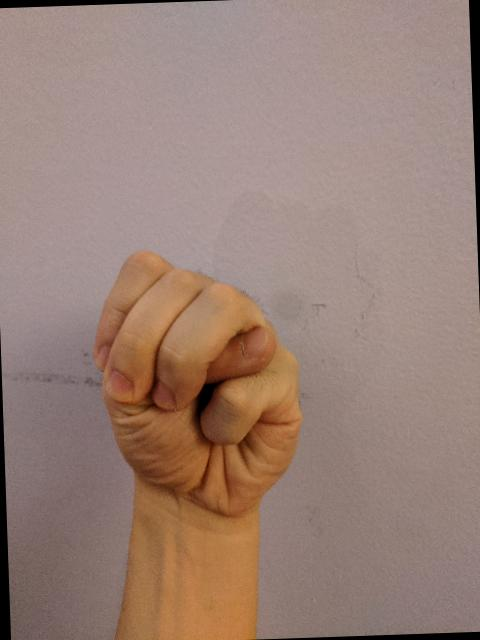M: (84, 239, 312, 528)
